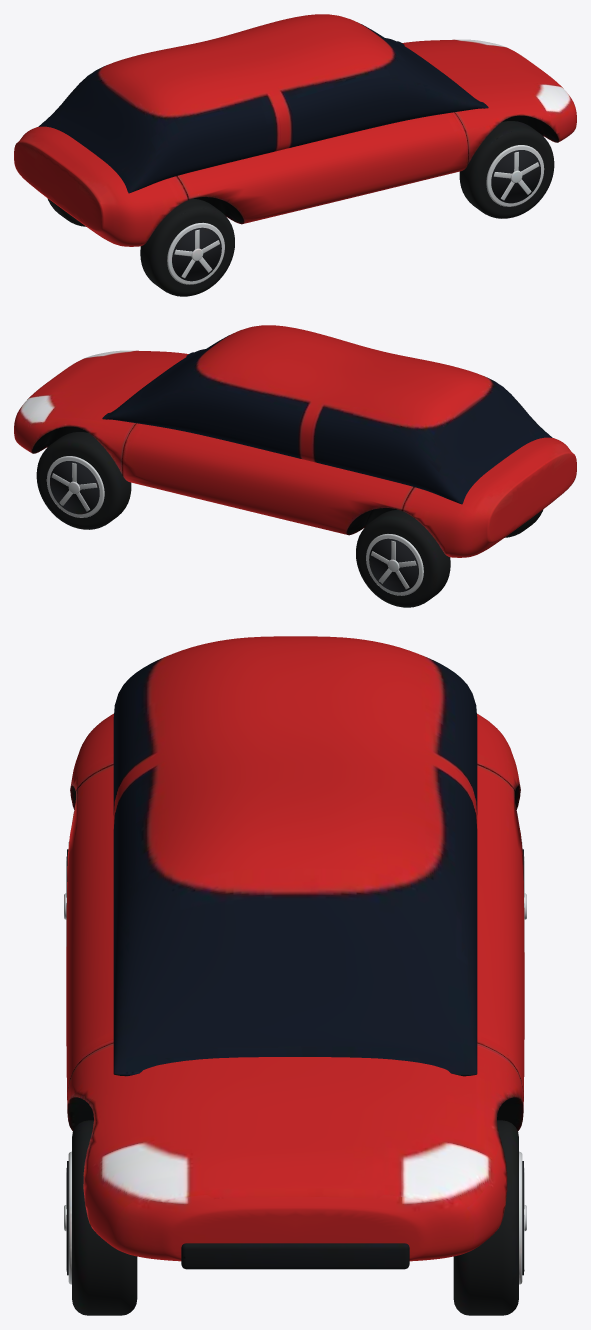
Rendered from car-suv.glb.
The picture shows the model from 3 angles, top to bottom: view 1: azimuth 30°, elevation 25°; view 2: azimuth 150°, elevation 25°; view 3: azimuth 270°, elevation 25°; orthographic projection. The views are drawn at different scales.
Parts seen in each view (by area): view 1: Body_2, Body, Body_4, Body_6, Body_5, Body_1; view 2: Body_2, Body, Body_4, Body_6, Body_5, Body_1; view 3: Body_2, Body, Body_4, Body_3, Body_5, Body_1.
Boxes of the visible parts, x1=… form: Body_2: x1=38, y1=14, x2=488, y2=193; Body: x1=14, y1=39, x2=576, y2=246; Body_4: x1=47, y1=121, x2=554, y2=296; Body_6: x1=172, y1=150, x2=540, y2=281; Body_5: x1=167, y1=145, x2=544, y2=284; Body_1: x1=194, y1=115, x2=559, y2=224; Body_2: x1=102, y1=325, x2=552, y2=504; Body: x1=14, y1=350, x2=576, y2=557; Body_4: x1=36, y1=432, x2=543, y2=607; Body_6: x1=50, y1=461, x2=418, y2=592; Body_5: x1=46, y1=456, x2=423, y2=595; Body_1: x1=31, y1=426, x2=396, y2=535; Body_2: x1=113, y1=636, x2=477, y2=1076; Body: x1=66, y1=713, x2=524, y2=1261; Body_4: x1=72, y1=1120, x2=518, y2=1315; Body_3: x1=181, y1=1243, x2=409, y2=1269; Body_5: x1=64, y1=841, x2=526, y2=1284; Body_1: x1=67, y1=785, x2=523, y2=1130.
Bounding box in the file's own units: 4.82 × 1.72 × 1.99.
9 materials, 9 textured.
